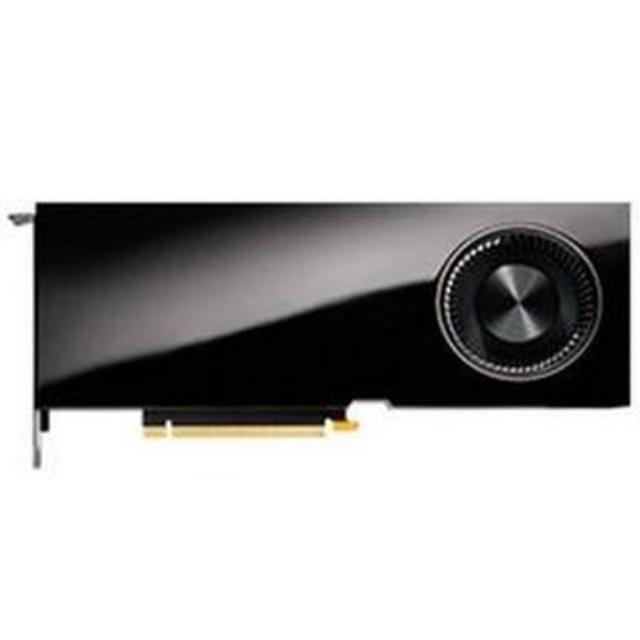GPU: (28, 198, 632, 438)
